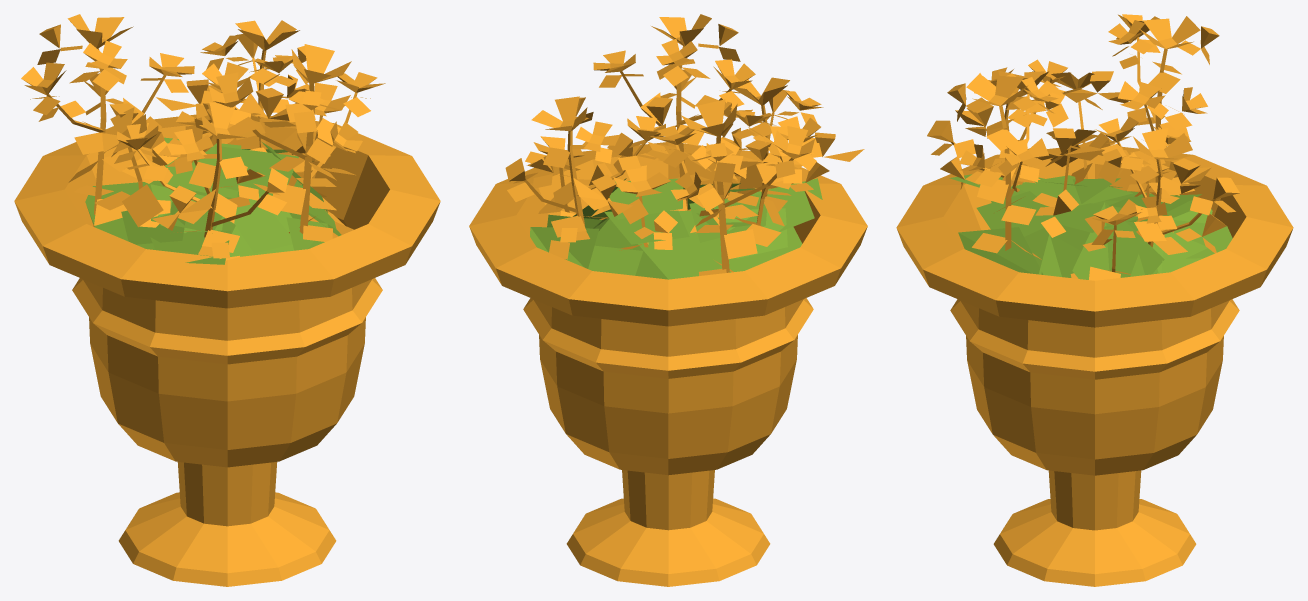
The model's file is SM_City_Planter_Street_D_Filled.fbx.
The picture shows the model from 3 angles, left to right: view 1: azimuth 30°, elevation 25°; view 2: azimuth 150°, elevation 25°; view 3: azimuth 270°, elevation 25°; orthographic projection. The views are drawn at different scales.
Parts seen in each view (by area): view 1: SM_City_Planter_Street_D_Filled; view 2: SM_City_Planter_Street_D_Filled; view 3: SM_City_Planter_Street_D_Filled.
Boxes of the visible parts, bbox=[...] form: SM_City_Planter_Street_D_Filled: bbox=[14, 14, 440, 586]; SM_City_Planter_Street_D_Filled: bbox=[469, 14, 867, 586]; SM_City_Planter_Street_D_Filled: bbox=[896, 14, 1293, 586].
Size of the model in its own units: 0.8265 by 1.1 by 0.8265.
